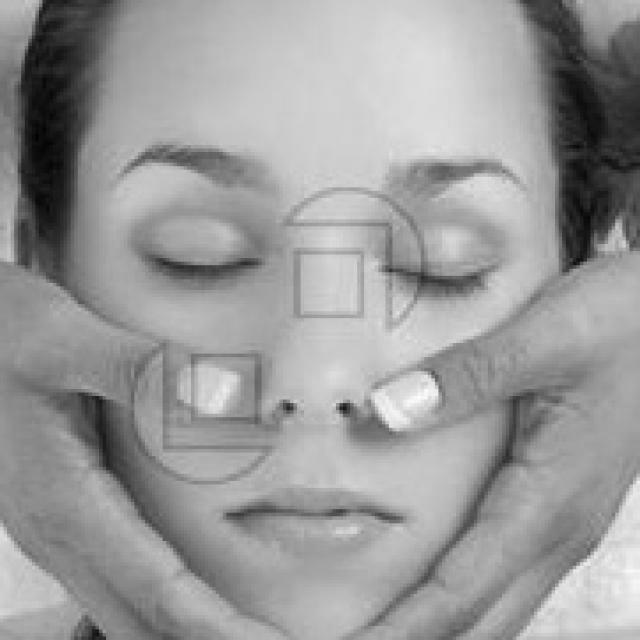real: (70, 3, 570, 640), (123, 202, 510, 326)
